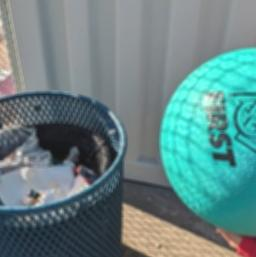algae: (158, 49, 256, 236)
